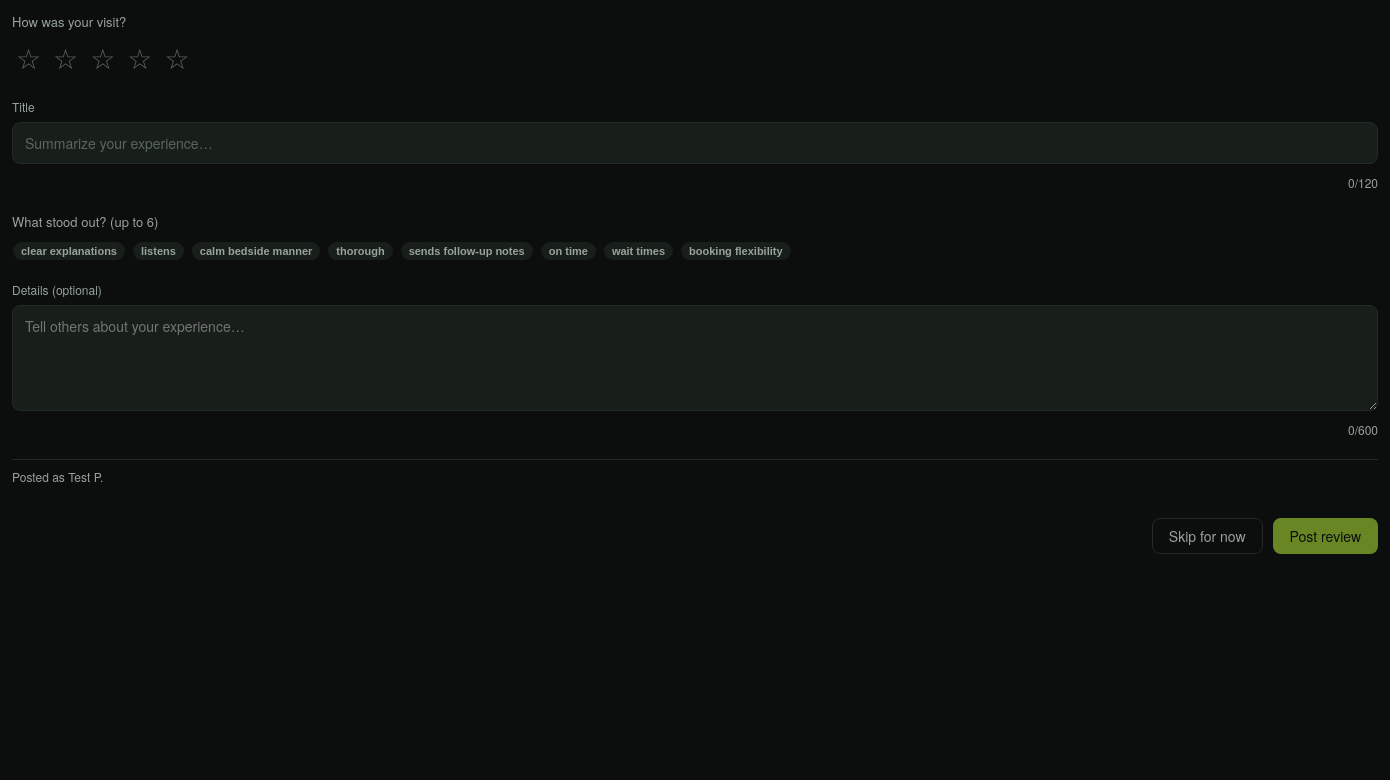
Scenario: ReviewForm › shows character counter for body
Expected: the text "0/600" is shown, [1348, 421, 1378, 438]
Type in body textarea
Type "Hello" into the text box with placeholder "Tell others about your experience…". click: (695, 358)
box: [12, 305, 1378, 411]
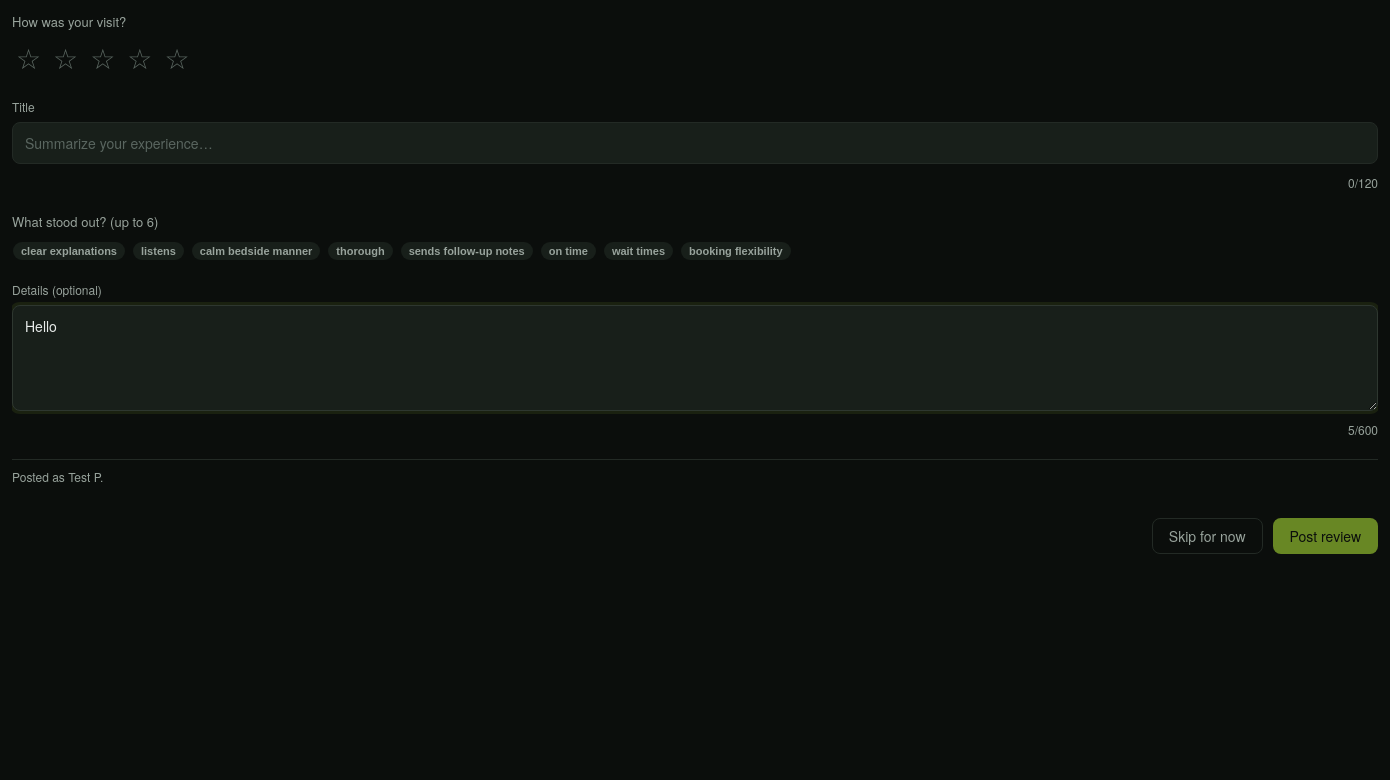
Result: the text "5/600" is shown at [1348, 421, 1378, 438]
